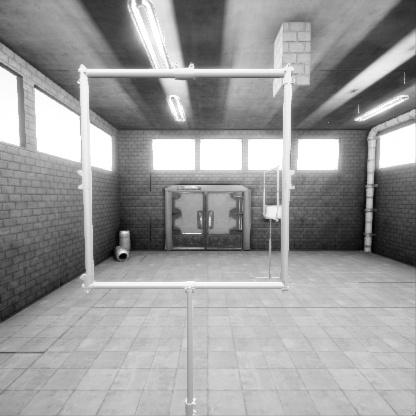gate: (98, 143, 302, 343), (263, 197, 279, 252)
